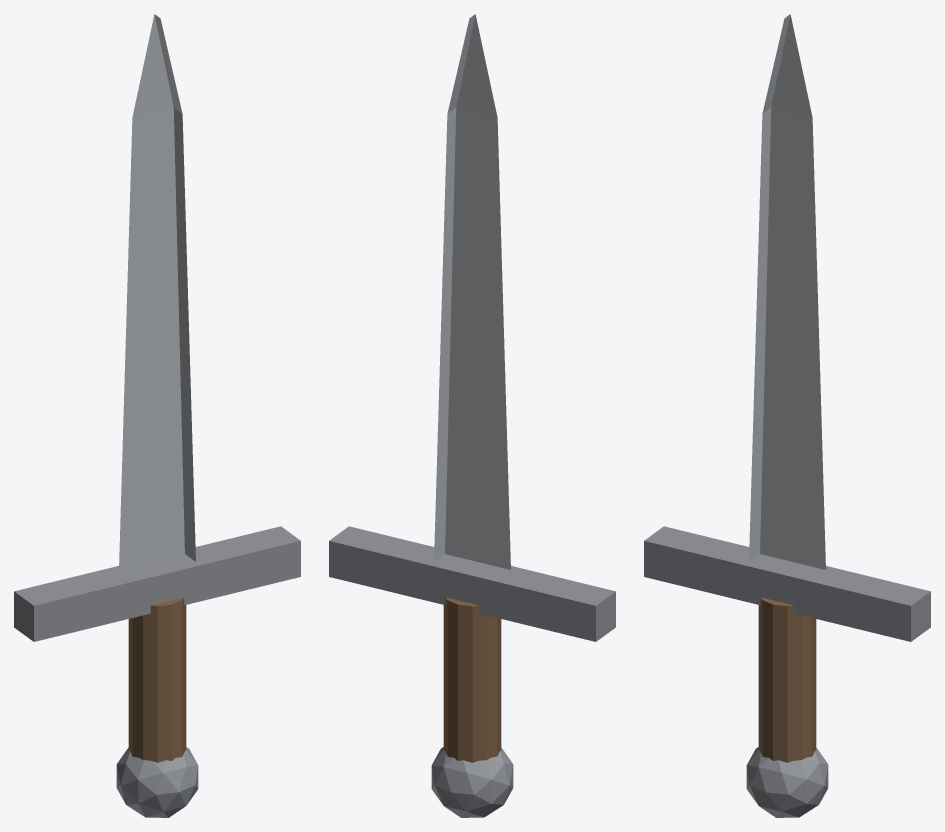
File: sword.glb
3 renders of one model, left to right at view 1: azimuth 30°, elevation 25°; view 2: azimuth 150°, elevation 25°; view 3: azimuth 330°, elevation 25°, orthographic.
Visible parts, largest first — view 1: sword_0_0, sword_0_1, sword_0_2, sword_0_3; view 2: sword_0_0, sword_0_1, sword_0_2, sword_0_3; view 3: sword_0_0, sword_0_1, sword_0_2, sword_0_3.
Boxes of the visible parts, box(x1,y1,x2,y2) form: sword_0_0: box(119, 14, 195, 569); sword_0_1: box(14, 526, 300, 641); sword_0_2: box(128, 597, 186, 762); sword_0_3: box(116, 747, 198, 817); sword_0_0: box(434, 14, 510, 569); sword_0_1: box(329, 526, 615, 641); sword_0_2: box(443, 597, 501, 762); sword_0_3: box(431, 747, 513, 817); sword_0_0: box(749, 14, 825, 569); sword_0_1: box(644, 526, 930, 641); sword_0_2: box(758, 597, 816, 762); sword_0_3: box(746, 747, 828, 817).
Bounding box in the file's own units: 1.39 × 3.99 × 0.3876.
